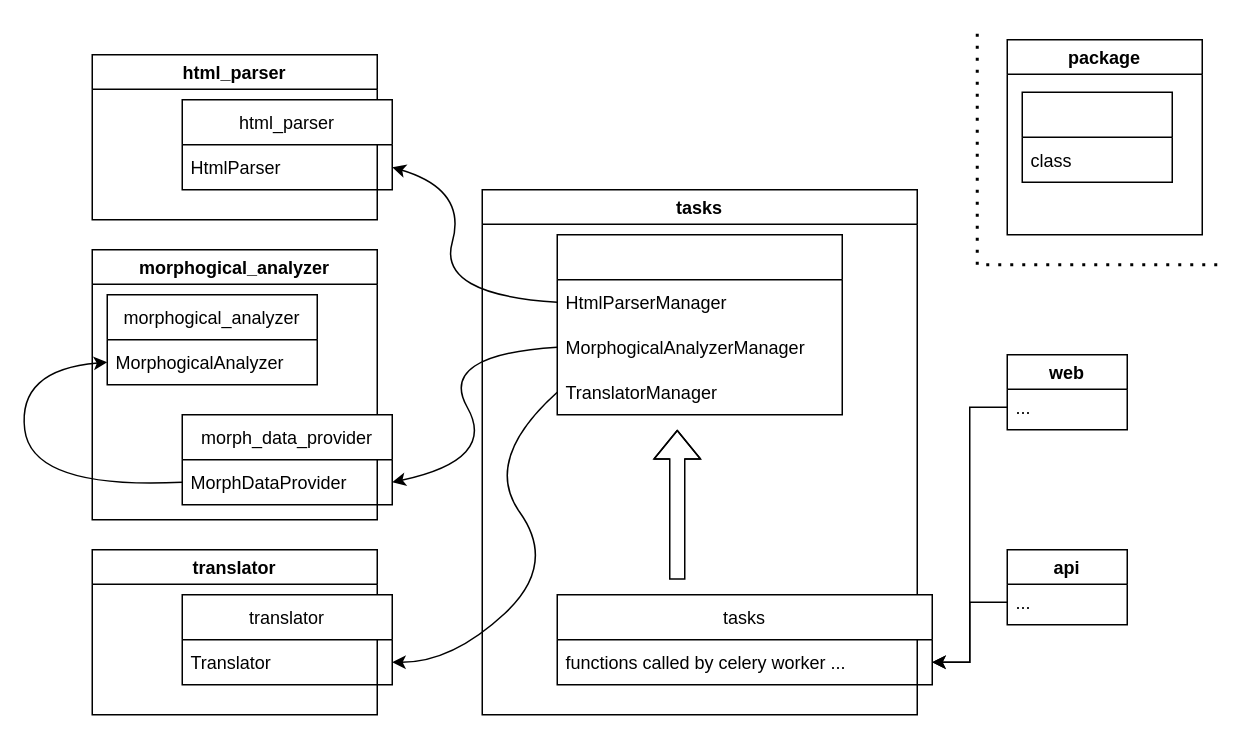
Some shapes in this 1242 by 740 pixel diagram are drawn without their labels. Here are the shapes that lost their labels. From the top down, the box of each, then its label:
(1021, 91, 1172, 182): module
(556, 233, 842, 415): app_managers
